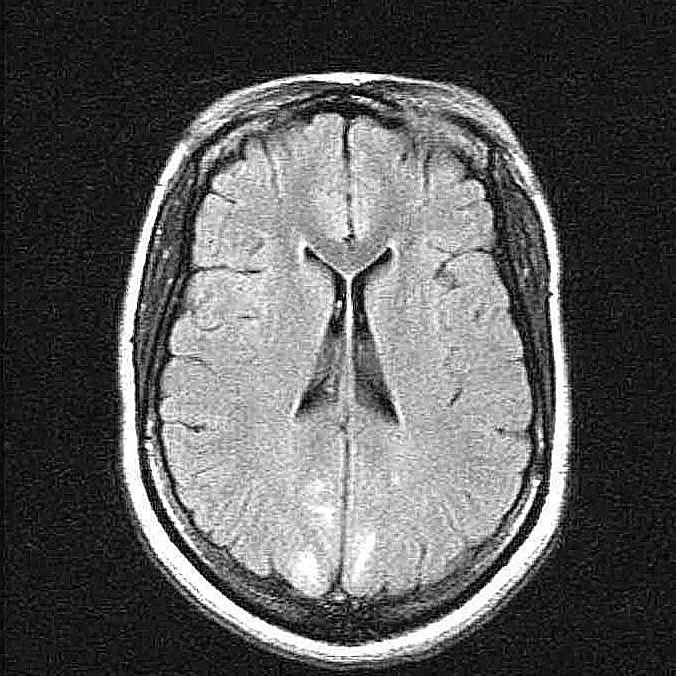Normal_Brain: (1, 6, 676, 676)
